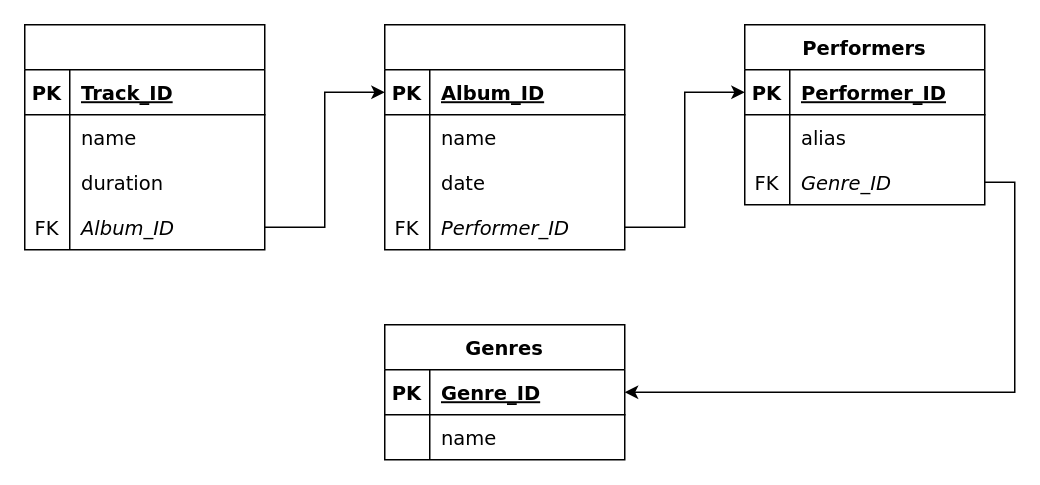
This 1040x485 diagram has some shape labels left out. Each missing label, with the box of its shape:
Albums: (383, 23, 625, 250)
Tracks: (23, 23, 265, 250)
